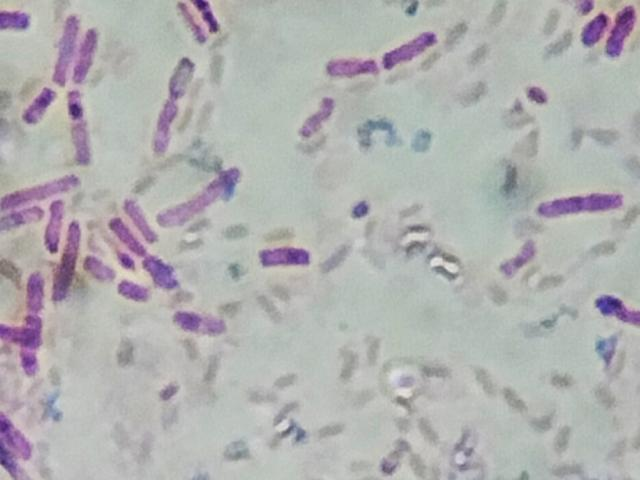E. coli: (158, 163, 248, 230), (539, 183, 625, 226), (50, 222, 90, 304), (63, 89, 98, 167), (0, 176, 82, 206), (386, 26, 443, 69), (596, 284, 640, 338), (296, 86, 339, 141), (252, 233, 311, 272), (23, 273, 43, 378), (608, 2, 640, 59), (326, 50, 383, 82), (52, 10, 78, 79), (123, 192, 156, 243), (174, 0, 212, 43), (75, 27, 105, 80), (162, 52, 199, 93), (580, 0, 610, 50), (48, 196, 72, 258), (0, 316, 47, 347), (142, 253, 178, 293), (108, 215, 138, 263), (25, 77, 55, 125), (151, 96, 174, 157), (172, 309, 227, 334), (0, 444, 32, 480), (0, 412, 30, 449), (2, 210, 44, 235), (199, 0, 225, 39), (0, 7, 34, 34), (82, 252, 112, 282), (116, 275, 146, 302)
